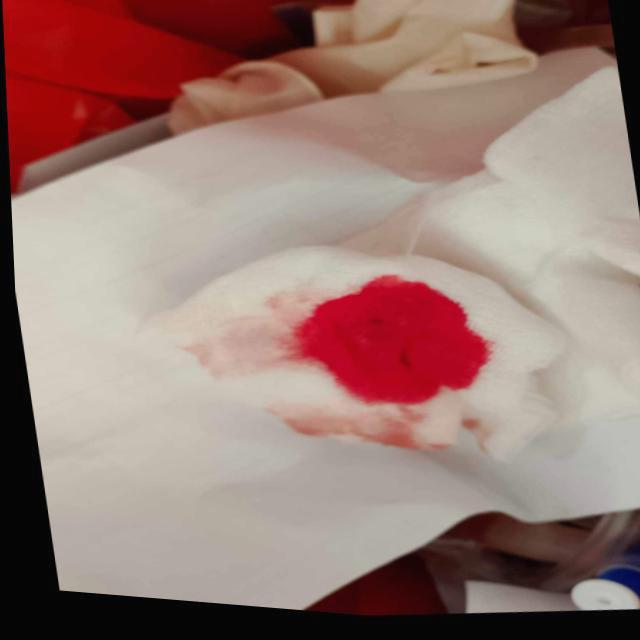Infectious: (144, 242, 571, 464)
Pathological: (12, 48, 638, 608)
Sharps: (462, 559, 640, 613)
